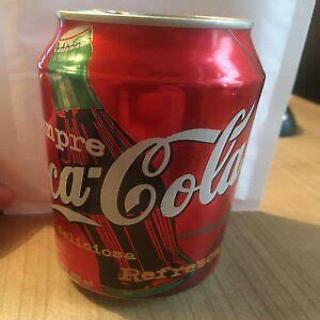Anorganik: (36, 4, 266, 310)
